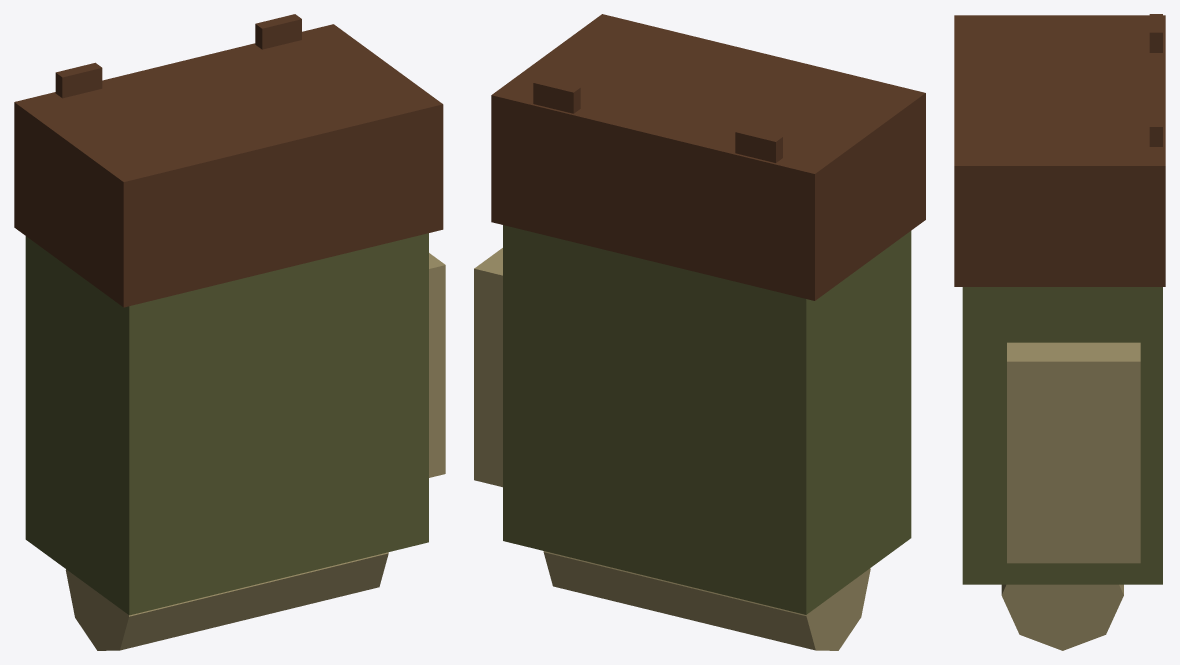
The model's file is backpack_large.glb.
3 renders of one model, left to right at view 1: azimuth 30°, elevation 25°; view 2: azimuth 150°, elevation 25°; view 3: azimuth 270°, elevation 25°, orthographic. The views are drawn at different scales.
Visible parts, largest first — view 1: backpack_large; view 2: backpack_large; view 3: backpack_large.
Boxes of the visible parts, x1,y1,x2,y2 form: backpack_large: (14,14,445,650); backpack_large: (474,14,925,650); backpack_large: (954,14,1165,650).
Size of the model in its own units: 0.35 by 0.515 by 0.19.
1 material, 1 textured.
